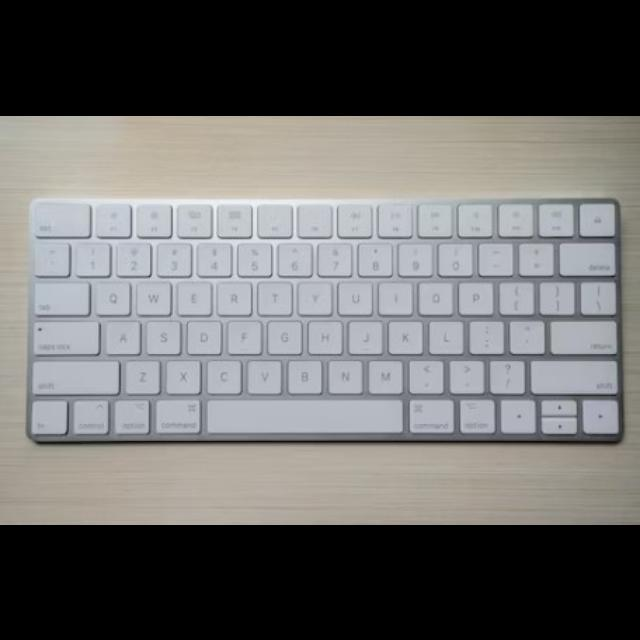Computer-Keyboard: (25, 195, 623, 446)
